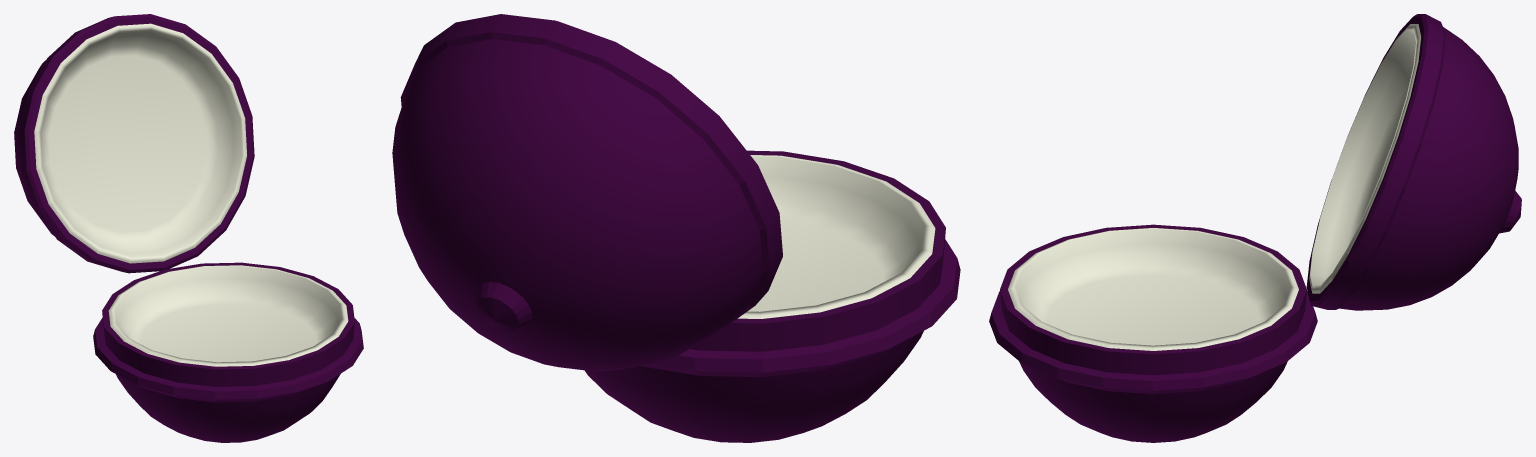
3 views of the same model, side by side, from view 1: azimuth 30°, elevation 25°; view 2: azimuth 150°, elevation 25°; view 3: azimuth 270°, elevation 25° (orthographic). The views are drawn at different scales.
Visible parts, largest first — view 1: JB002; view 2: JB002; view 3: JB002.
Part boxes in pixels (x1,y1,x2,y2): JB002: (14, 14, 363, 442); JB002: (392, 14, 960, 442); JB002: (989, 14, 1521, 442).
Bounding box in the file's own units: 13.3 × 17.88 × 21.55.
